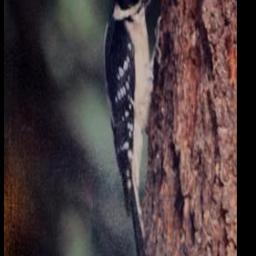Woodpecker: (101, 0, 169, 256)
